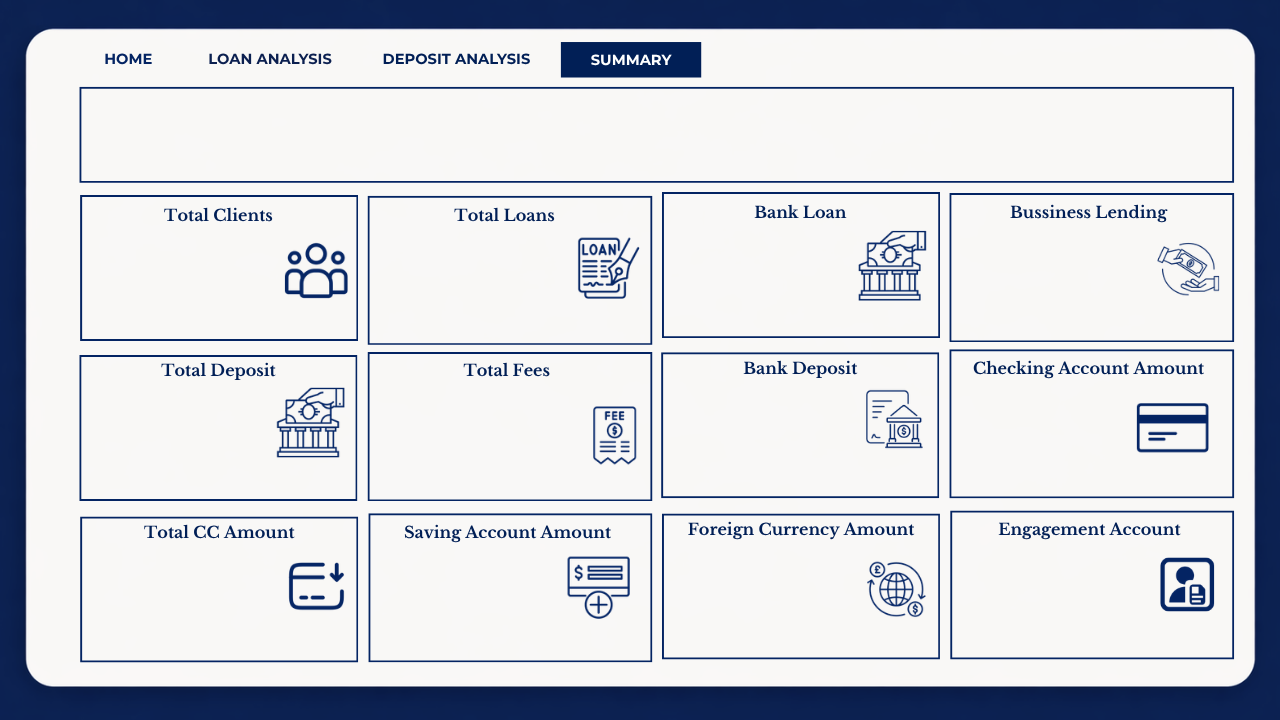

The dashboard page shown, as its layout file describes it:
{"tool":"powerbi","page":{"name":"Summary","canvas":[1280,720],"ordinal":3},"visuals":[{"type":"actionButton","box":[76.3,40.3,99.4,40.3],"z":0},{"type":"actionButton","box":[175.7,40.3,188.6,40.3],"z":1000},{"type":"actionButton","box":[378.7,40.3,167,40.3],"z":2000},{"type":"slicer","title":"Banking Relationship","fields":{"Values":["public customer.BRId"]},"box":[85.2,95.1,335.8,71.6],"z":3000},{"type":"slicer","title":"Gender","fields":{"Values":["public customer.GenderId"]},"box":[440.7,95.1,398.8,71.6],"z":4000},{"type":"slicer","title":"Investment Advisor","fields":{"Values":["public customer.IAId"]},"box":[851.9,100,366.7,66.7],"z":5000},{"type":"card","fields":{"Values":["public customer.Total Clients"]},"box":[90.7,231.8,231.8,70.6],"z":6000},{"type":"card","fields":{"Values":["public customer.Total Loans"]},"box":[373,231.8,231.8,70.6],"z":7000},{"type":"card","fields":{"Values":["Sum(public customer.Bank Loans)"]},"box":[652.3,231.8,231.8,70.6],"z":8000},{"type":"card","fields":{"Values":["Sum(public customer.Business Lending)"]},"box":[959,231.8,231.8,70.6],"z":9000},{"type":"card","fields":{"Values":["public customer.Total Deposit"]},"box":[85,385.9,231.8,70.6],"z":10000},{"type":"card","fields":{"Values":["public customer.Total Fees"]},"box":[364.3,385.9,231.8,70.6],"z":11000},{"type":"card","fields":{"Values":["Sum(public customer.Bank Deposits)"]},"box":[665.3,384.5,231.8,70.6],"z":12000},{"type":"card","fields":{"Values":["Sum(public customer.Checking Accounts)"]},"box":[937.4,387.4,208.8,70.6],"z":13000},{"type":"card","fields":{"Values":["public customer.Total CC Amount"]},"box":[90.7,545.8,231.8,70.6],"z":14000},{"type":"card","fields":{"Values":["Sum(public customer.Saving Accounts)"]},"box":[345.6,545.8,231.8,70.6],"z":15000},{"type":"card","fields":{"Values":["Sum(public customer.Foreign Currency Account)"]},"box":[665.3,545.8,231.8,70.6],"z":16000},{"type":"card","fields":{"Values":["public customer.Average Engagement Years"]},"box":[993.6,545.8,139.7,70.6],"z":17000},{"type":"ChicletSlicer1448559807354","fields":{"Category":["Period Filter.Period"]},"box":[702.7,33.1,547.2,47.5],"z":18000}]}

Visuals, with their boxes in screenshot pixels (x1, y1, x2, y2), scaled from the page's 1280x720 canvas onto the 1280x720 screenshot:
actionButton: x1=76, y1=40, x2=176, y2=81
actionButton: x1=176, y1=40, x2=364, y2=81
actionButton: x1=379, y1=40, x2=546, y2=81
"Banking Relationship" slicer: x1=85, y1=95, x2=421, y2=167
"Gender" slicer: x1=441, y1=95, x2=840, y2=167
"Investment Advisor" slicer: x1=852, y1=100, x2=1219, y2=167
card - public customer.Total Clients: x1=91, y1=232, x2=322, y2=302
card - public customer.Total Loans: x1=373, y1=232, x2=605, y2=302
card - Sum(public customer.Bank Loans): x1=652, y1=232, x2=884, y2=302
card - Sum(public customer.Business Lending): x1=959, y1=232, x2=1191, y2=302
card - public customer.Total Deposit: x1=85, y1=386, x2=317, y2=456
card - public customer.Total Fees: x1=364, y1=386, x2=596, y2=456
card - Sum(public customer.Bank Deposits): x1=665, y1=384, x2=897, y2=455
card - Sum(public customer.Checking Accounts): x1=937, y1=387, x2=1146, y2=458
card - public customer.Total CC Amount: x1=91, y1=546, x2=322, y2=616
card - Sum(public customer.Saving Accounts): x1=346, y1=546, x2=577, y2=616
card - Sum(public customer.Foreign Currency Account): x1=665, y1=546, x2=897, y2=616
card - public customer.Average Engagement Years: x1=994, y1=546, x2=1133, y2=616
ChicletSlicer1448559807354 - Period Filter.Period: x1=703, y1=33, x2=1250, y2=81
